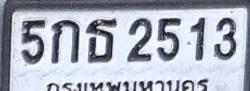1: (190, 16, 205, 60)
2: (126, 18, 152, 62)
3: (214, 17, 236, 60)
5: (156, 17, 181, 61), (21, 19, 45, 64)
A01: (51, 18, 79, 64)
A24: (86, 18, 116, 62)
